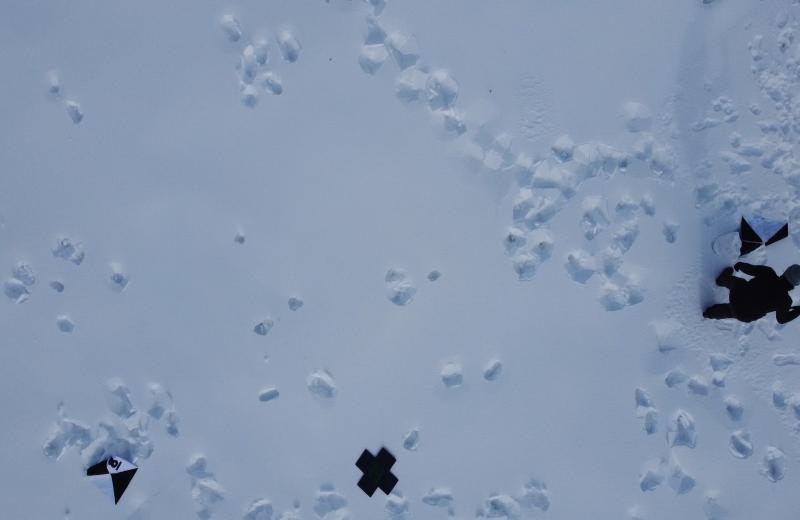Cross: (356, 444, 400, 499)
